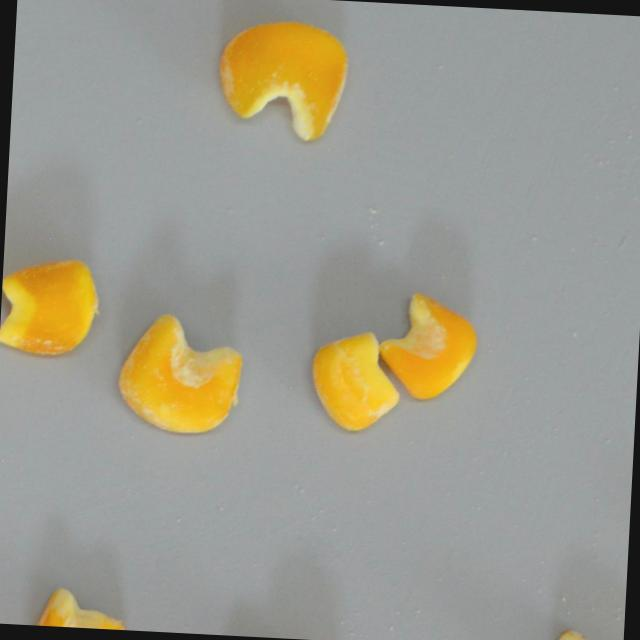dañado: (208, 15, 355, 147), (373, 287, 483, 404), (0, 250, 106, 363), (21, 579, 137, 631), (547, 625, 624, 640)
pelicula: (109, 306, 253, 439), (301, 326, 406, 437)
